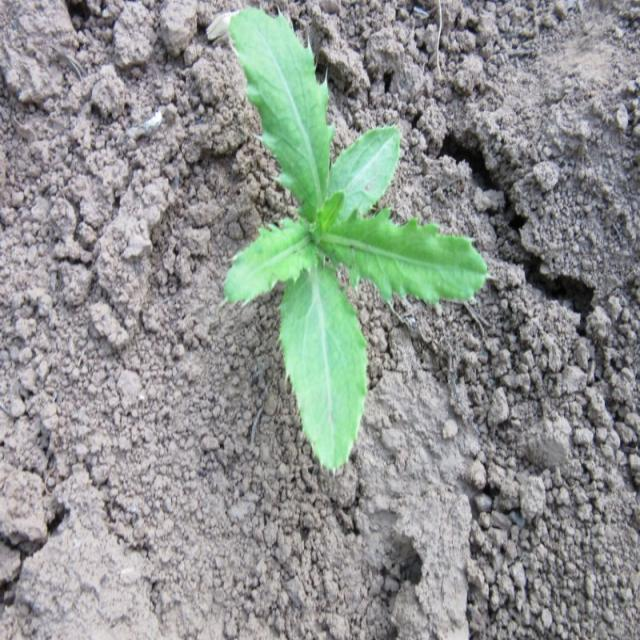cs: (206, 0, 492, 478)
